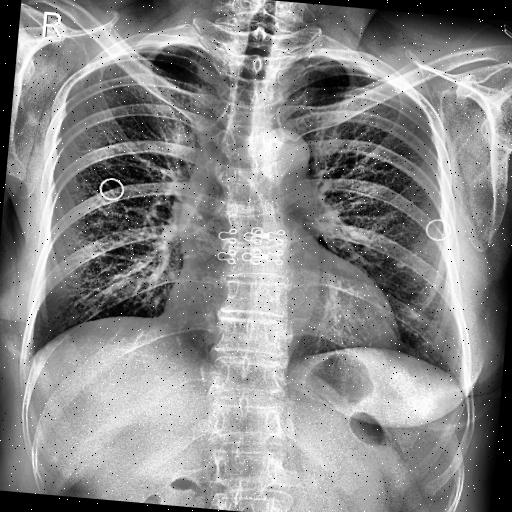0- Aortic enlargement: (245, 128, 314, 192), (252, 130, 318, 186), (246, 126, 310, 170)
3- Cardiomegaly: (148, 284, 402, 362), (158, 280, 404, 350), (158, 282, 406, 348)
